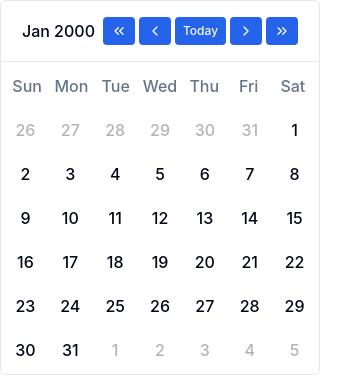
Scenario: Calendar › goes to today when clicking the Today button
Expected: the text "Jan 2000" is shown, top-left (22, 19), bottom-right (95, 43)
Click the button with aria-label "Go to today" at (201, 31), box top-left (175, 17), bottom-right (226, 45)
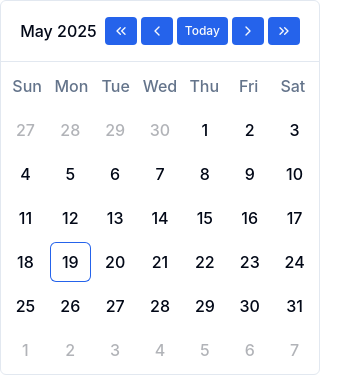
Result: the text "May 2025" is shown at top-left (20, 19), bottom-right (97, 43)
